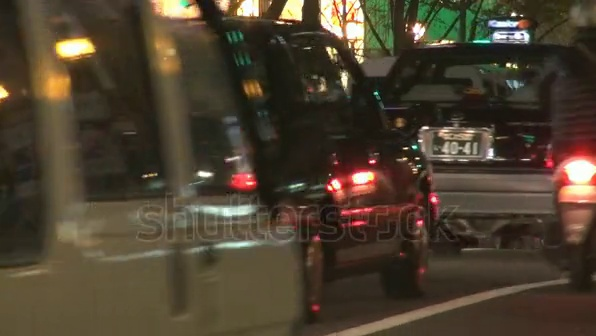licenseplate: (435, 129, 492, 159)
